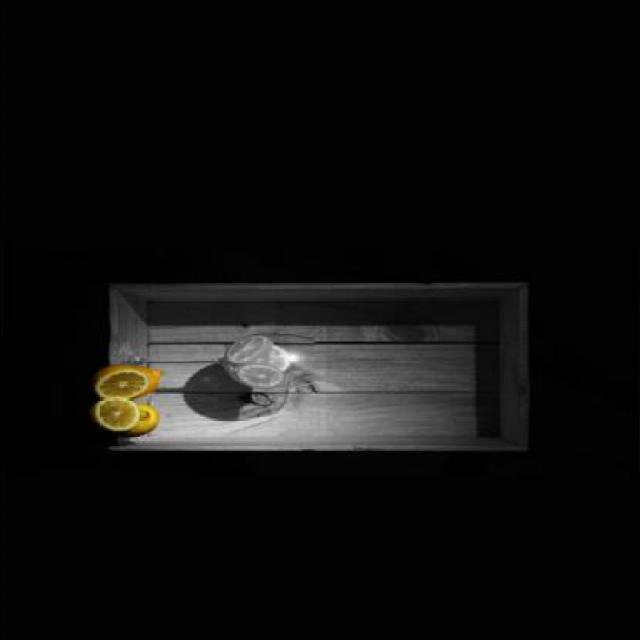Orange: (93, 396, 144, 433), (92, 366, 150, 398), (120, 403, 158, 440), (132, 364, 160, 402)
